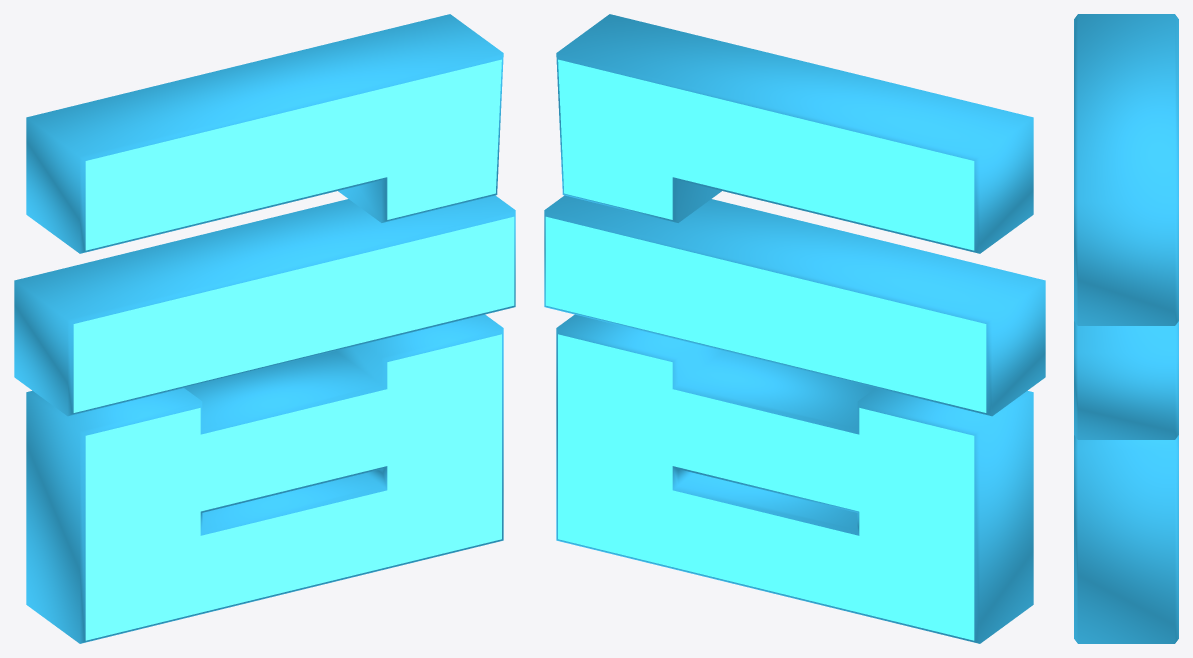
3 renders of one model, left to right at view 1: azimuth 30°, elevation 25°; view 2: azimuth 150°, elevation 25°; view 3: azimuth 270°, elevation 25°, orthographic. The views are drawn at different scales.
Parts seen in each view (by area): view 1: glyph; view 2: glyph; view 3: glyph.
Part boxes in pixels (x1,y1,x2,y2): glyph: (14,14,515,643); glyph: (544,14,1045,643); glyph: (1074,14,1178,643).
Bounding box in the file's own units: 0.0726 × 0.0755 × 0.0162.
